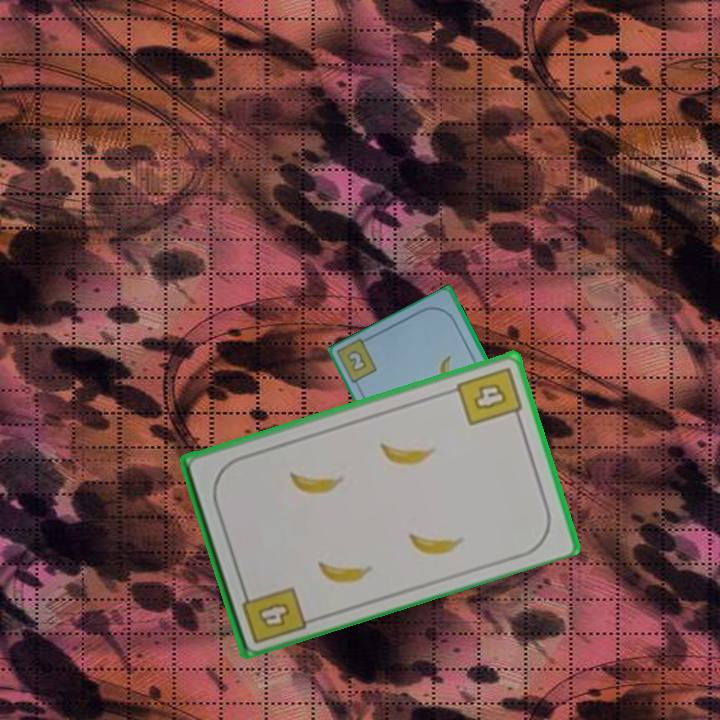2b: (345, 349, 368, 373)
4b: (453, 363, 525, 428), (238, 582, 309, 646)
